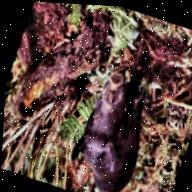boar: (48, 26, 182, 192)
